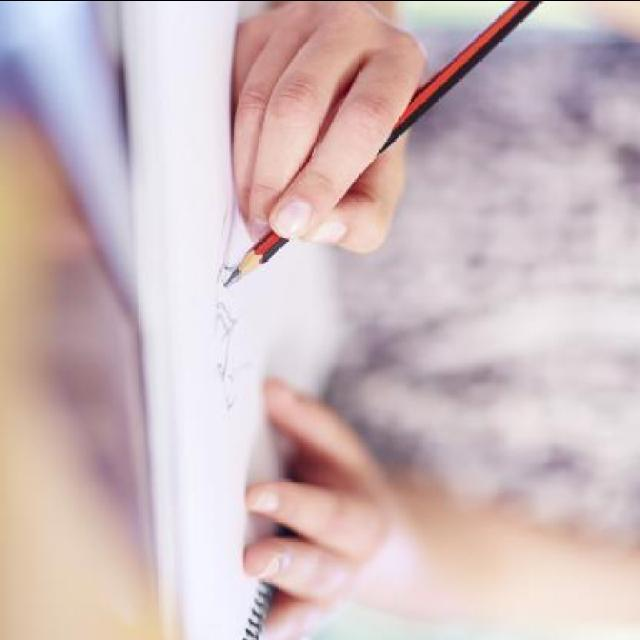pencil: (215, 228, 283, 292)
